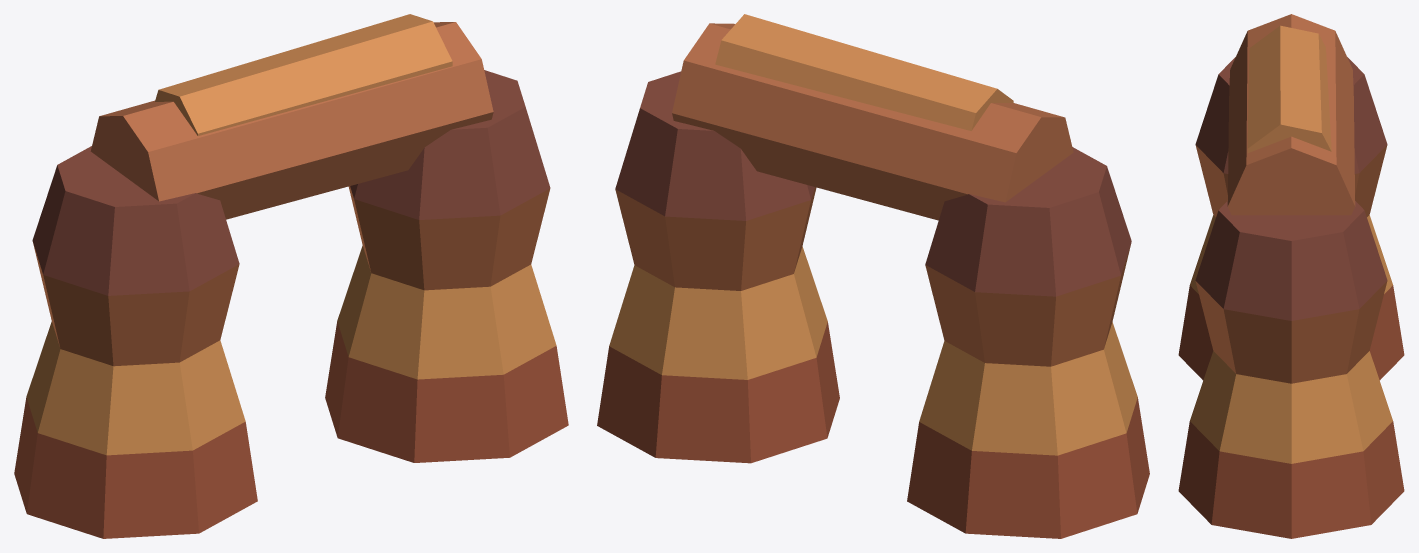
Rendered from sandstone-arch.glb.
3 renders of one model, left to right at view 1: azimuth 30°, elevation 25°; view 2: azimuth 150°, elevation 25°; view 3: azimuth 270°, elevation 25°, orthographic. The views are drawn at different scales.
Parts seen in each view (by area): view 1: sandstone-arch; view 2: sandstone-arch; view 3: sandstone-arch.
Boxes of the visible parts, box(x1,y1,x2,y2) form: sandstone-arch: box(14, 14, 568, 538); sandstone-arch: box(597, 14, 1149, 538); sandstone-arch: box(1178, 14, 1404, 538).
Bounding box in the file's own units: 9.54 × 6.88 × 3.94.
